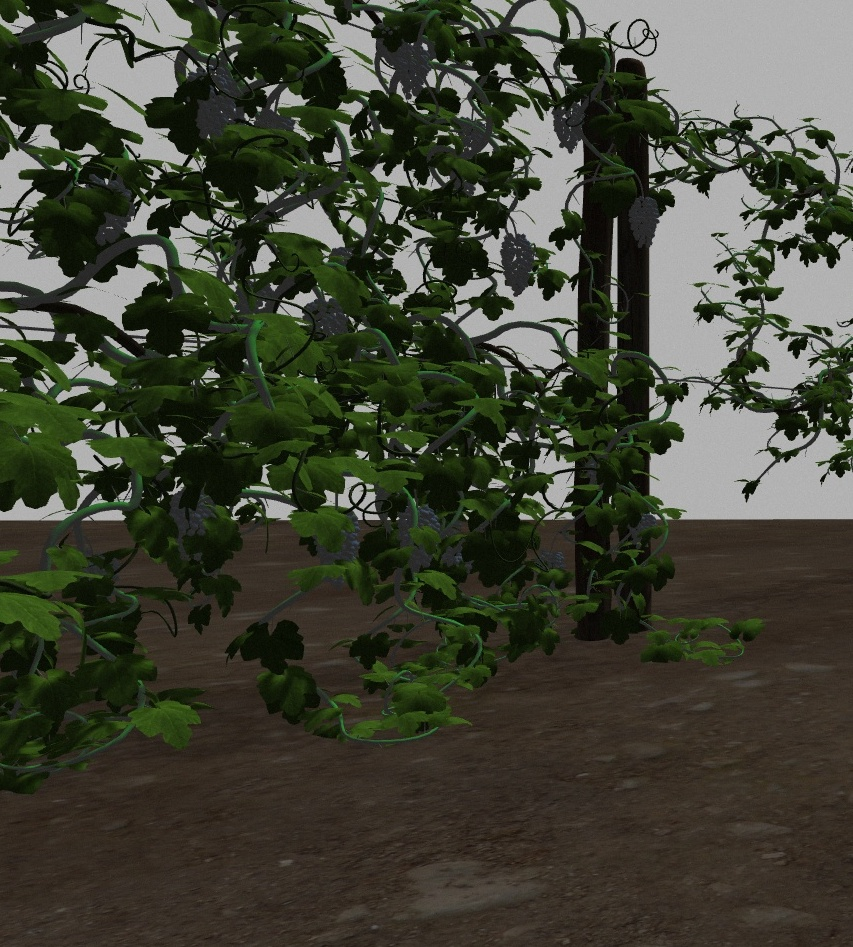grape: (191, 65, 236, 142), (316, 510, 360, 588), (167, 492, 214, 559), (398, 507, 440, 570), (500, 234, 538, 296), (393, 43, 433, 99), (550, 97, 588, 154), (302, 300, 351, 337), (628, 197, 662, 249)
